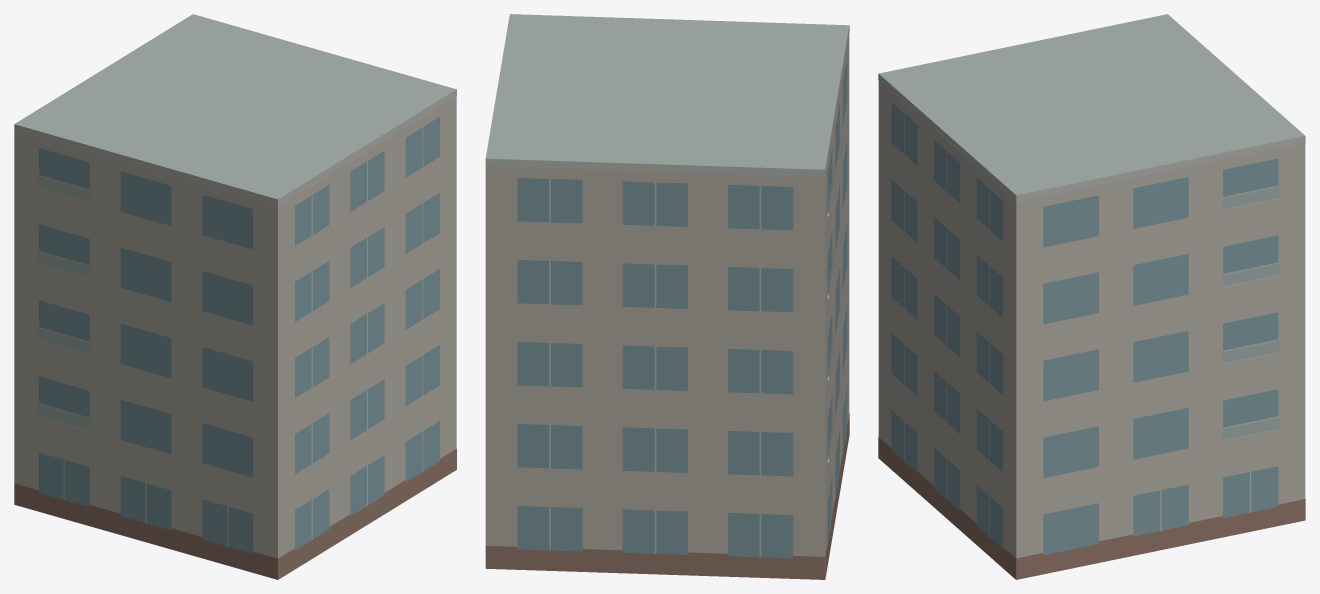
File: survey-upis-32973944.glb
The picture shows the model from 3 angles, left to right: view 1: azimuth 30°, elevation 25°; view 2: azimuth 150°, elevation 25°; view 3: azimuth 270°, elevation 25°; orthographic projection. The views are drawn at different scales.
Visible parts, largest first — view 1: survey-upis-32973944.tmp; view 2: survey-upis-32973944.tmp; view 3: survey-upis-32973944.tmp.
Boxes of the visible parts, x1=… form: survey-upis-32973944.tmp: x1=14, y1=14, x2=456, y2=579; survey-upis-32973944.tmp: x1=485, y1=14, x2=849, y2=579; survey-upis-32973944.tmp: x1=878, y1=14, x2=1305, y2=579.
Size of the model in its own units: 13.4 by 13.25 by 13.34.
